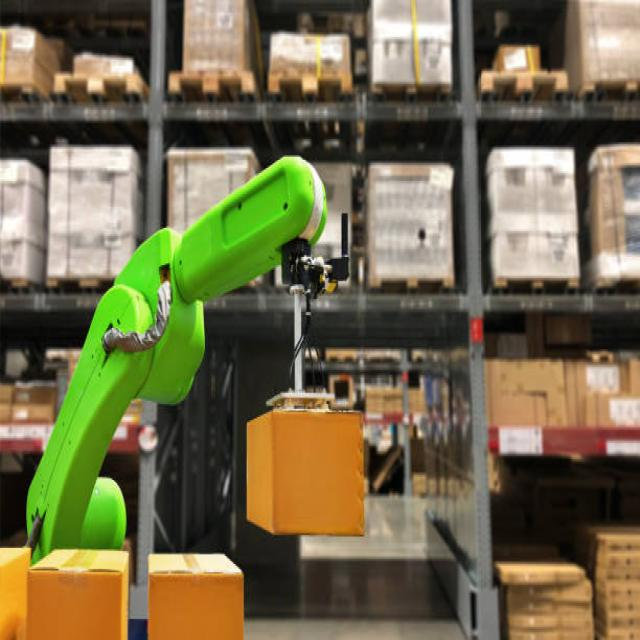Robotic-arm: (22, 149, 332, 562)
